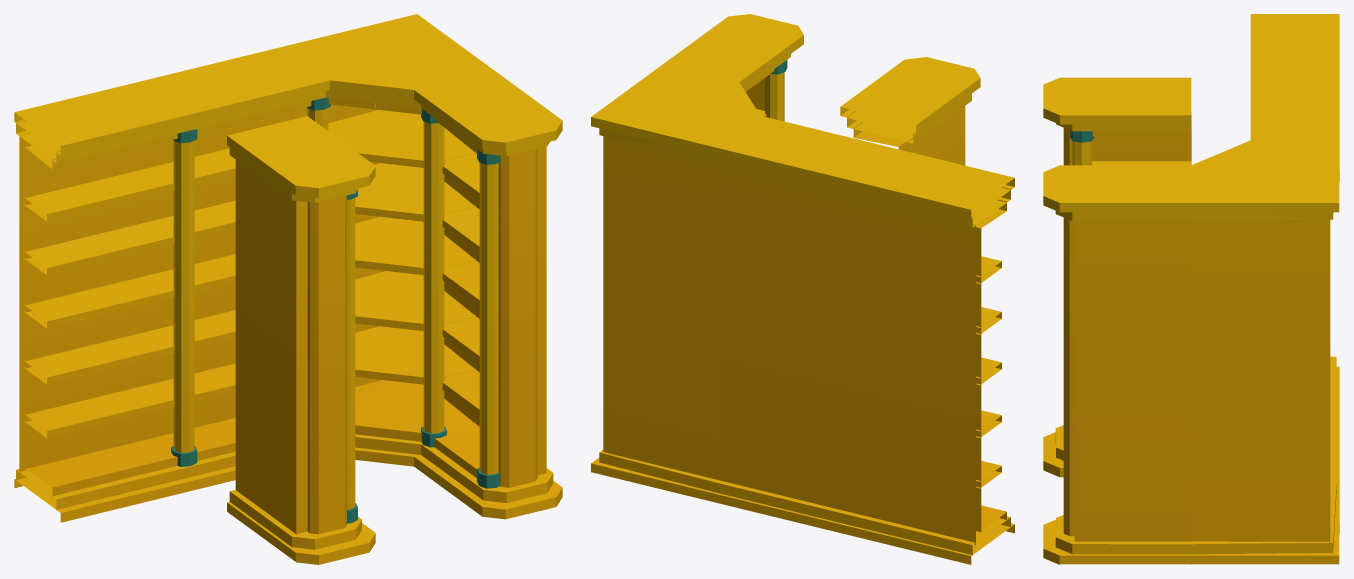
File: Bookshelf 02.fbx
3 renders of one model, left to right at view 1: azimuth 30°, elevation 25°; view 2: azimuth 150°, elevation 25°; view 3: azimuth 270°, elevation 25°, orthographic. The views are drawn at different scales.
Parts seen in each view (by area): view 1: Bookshelf 02 Center.001, Bookshelf 02 End 02, Bookshelf 02 Corner.001, Bookshelf 02 End.001; view 2: Bookshelf 02 Center.001, Bookshelf 02 Corner.001, Bookshelf 02 End 02, Bookshelf 02 End.001; view 3: Bookshelf 02 Corner.001, Bookshelf 02 End.001, Bookshelf 02 End 02, Bookshelf 02 Center.001.
Boxes of the visible parts, x1,y1,x2,y2 form: Bookshelf 02 Center.001: (14, 46, 329, 522); Bookshelf 02 End 02: (227, 116, 375, 564); Bookshelf 02 Corner.001: (284, 14, 493, 466); Bookshelf 02 End.001: (414, 70, 562, 519); Bookshelf 02 Center.001: (717, 116, 1014, 564); Bookshelf 02 Corner.001: (591, 64, 760, 502); Bookshelf 02 End 02: (840, 57, 980, 165); Bookshelf 02 End.001: (664, 14, 803, 121); Bookshelf 02 Corner.001: (1191, 140, 1339, 564); Bookshelf 02 End.001: (1043, 165, 1191, 564); Bookshelf 02 End 02: (1043, 77, 1191, 477); Bookshelf 02 Center.001: (1250, 14, 1339, 492).
Bounding box in the file's own units: 299 × 267 × 198.
